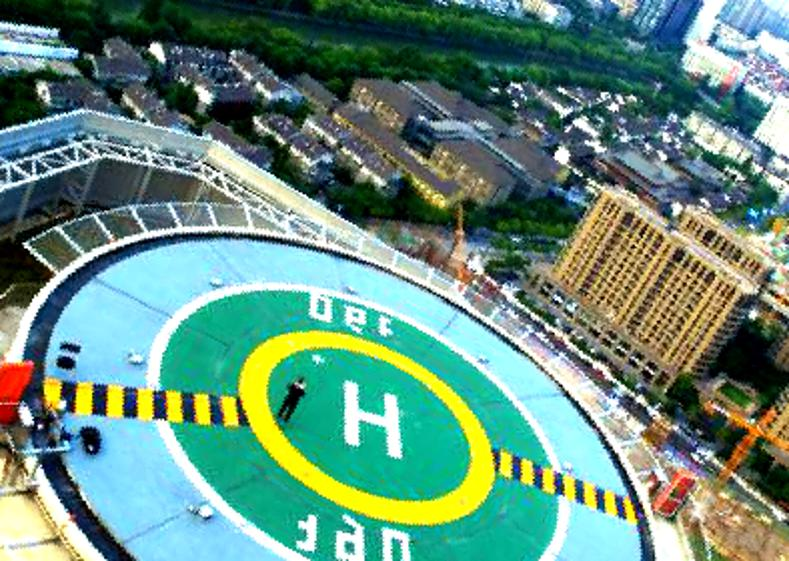Apron: (228, 325, 493, 539)
